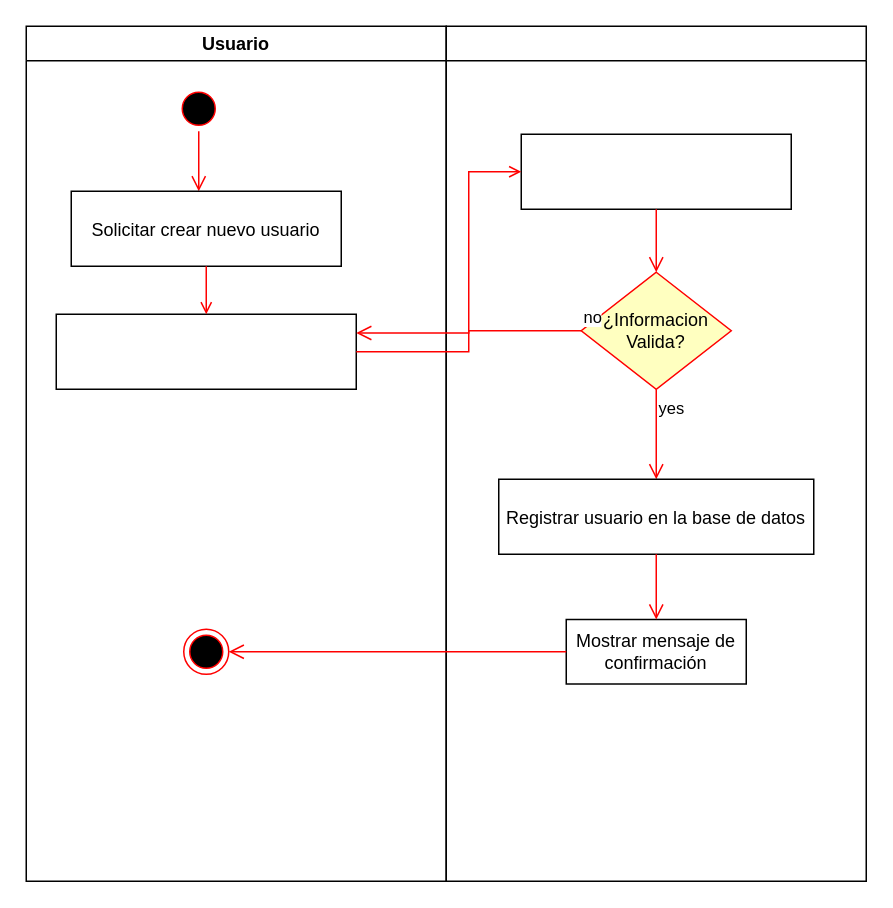
The diagram is 893 pixels wide and 908 high, and some of its shapes have lost their labels. The box of each missing label's shape, as (x1, y1, x2, y2) in pixels:
Ingresar la información requerida: (55, 313, 356, 389)
Sistema: (445, 25, 866, 881)
Validar información del usuario: (520, 133, 791, 209)
